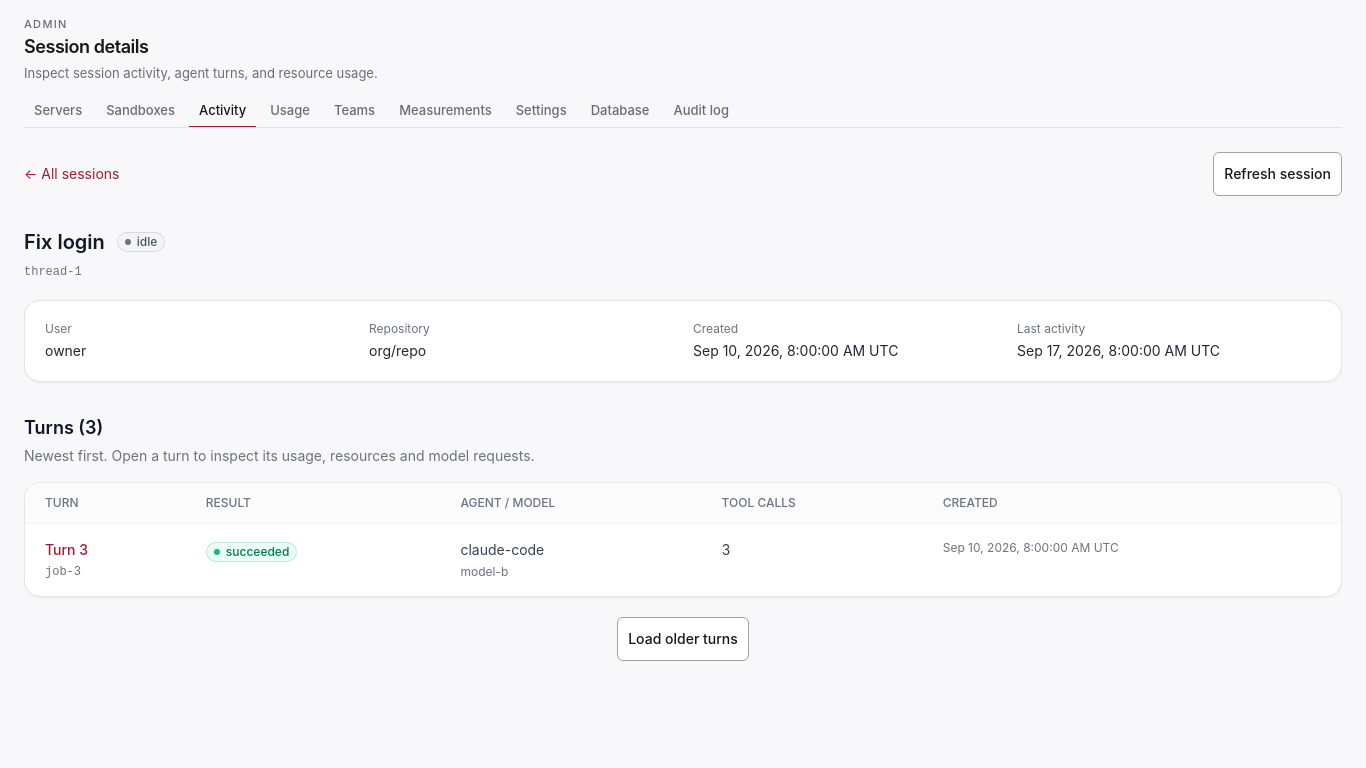
session turns › loads older turns without replacing newer ones and identifies inherited executions
Expected: the link "Turn 3" is shown, [45, 541, 88, 558]
Click the button "Load older turns" at [683, 639], box [617, 617, 749, 661]
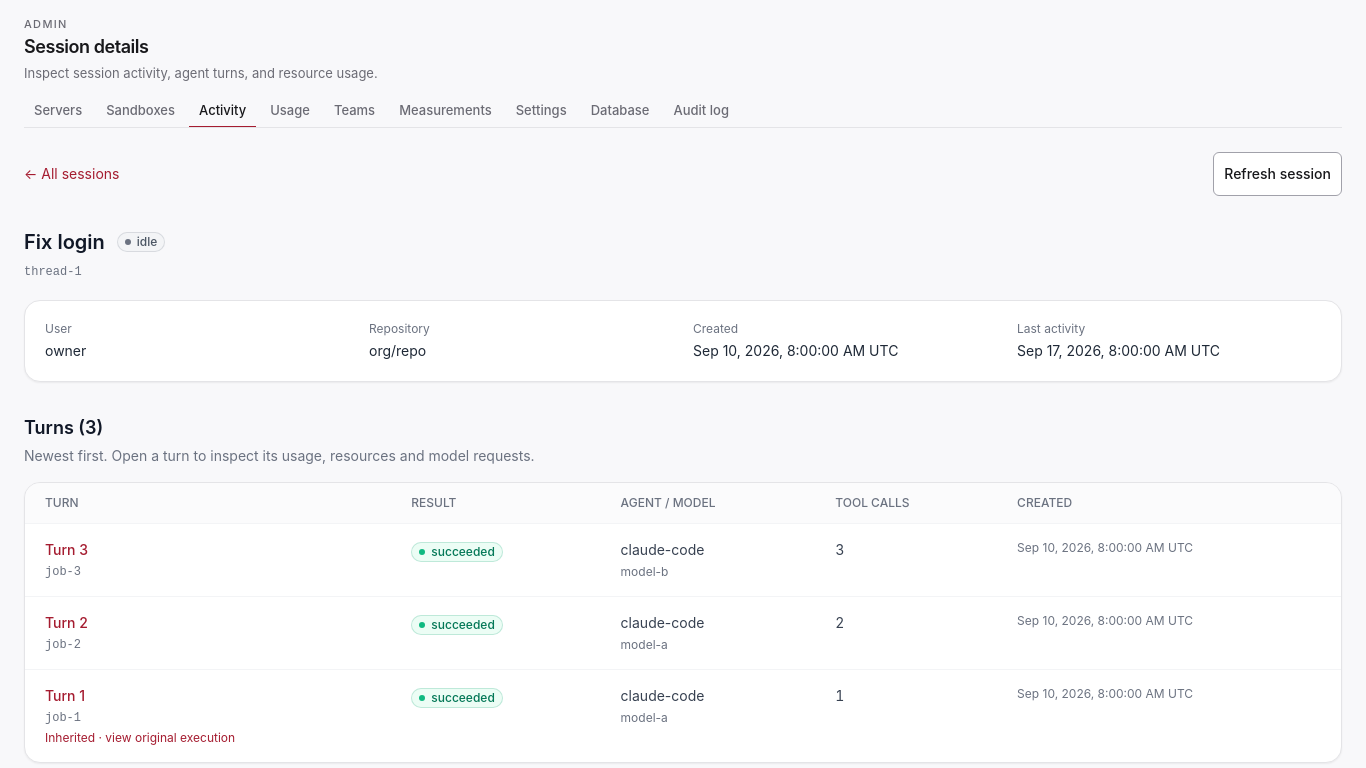
Result: the link "Turn 1" is shown at [45, 687, 85, 704]
Result: the number of links "Turn 3" is 3 at [45, 541, 88, 558]; [45, 614, 88, 631]; [45, 687, 85, 704]
